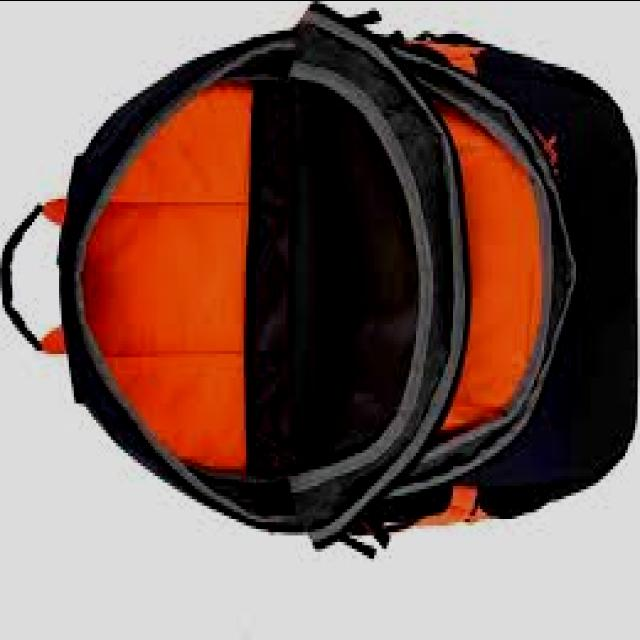backpack: (1, 4, 639, 562)
